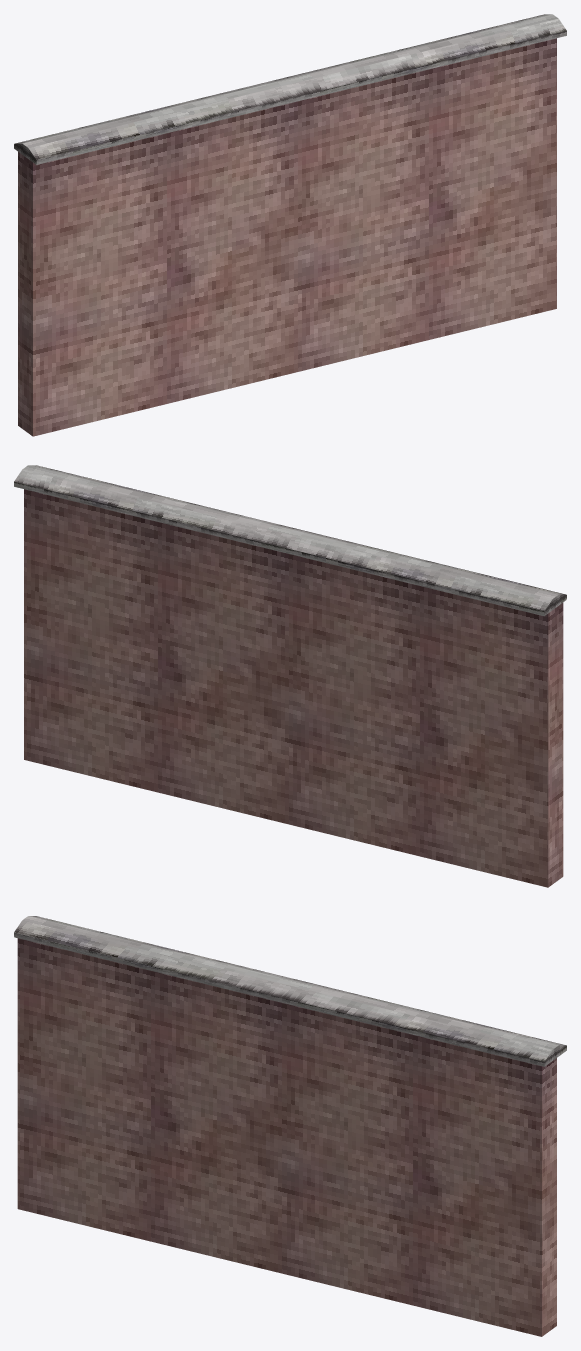
File: brick_wall_one_overhang.glb
The picture shows the model from 3 angles, top to bottom: view 1: azimuth 30°, elevation 25°; view 2: azimuth 150°, elevation 25°; view 3: azimuth 330°, elevation 25°; orthographic projection.
Parts seen in each view (by area): view 1: brick_wall_one_overhang; view 2: brick_wall_one_overhang; view 3: brick_wall_one_overhang.
Part boxes in pixels (bbox=[...]): brick_wall_one_overhang: bbox=[14, 14, 566, 436]; brick_wall_one_overhang: bbox=[14, 465, 566, 887]; brick_wall_one_overhang: bbox=[14, 916, 566, 1336].
Size of the model in its own units: 4.05 by 2.08 by 0.2996.
2 materials, 2 textured.
